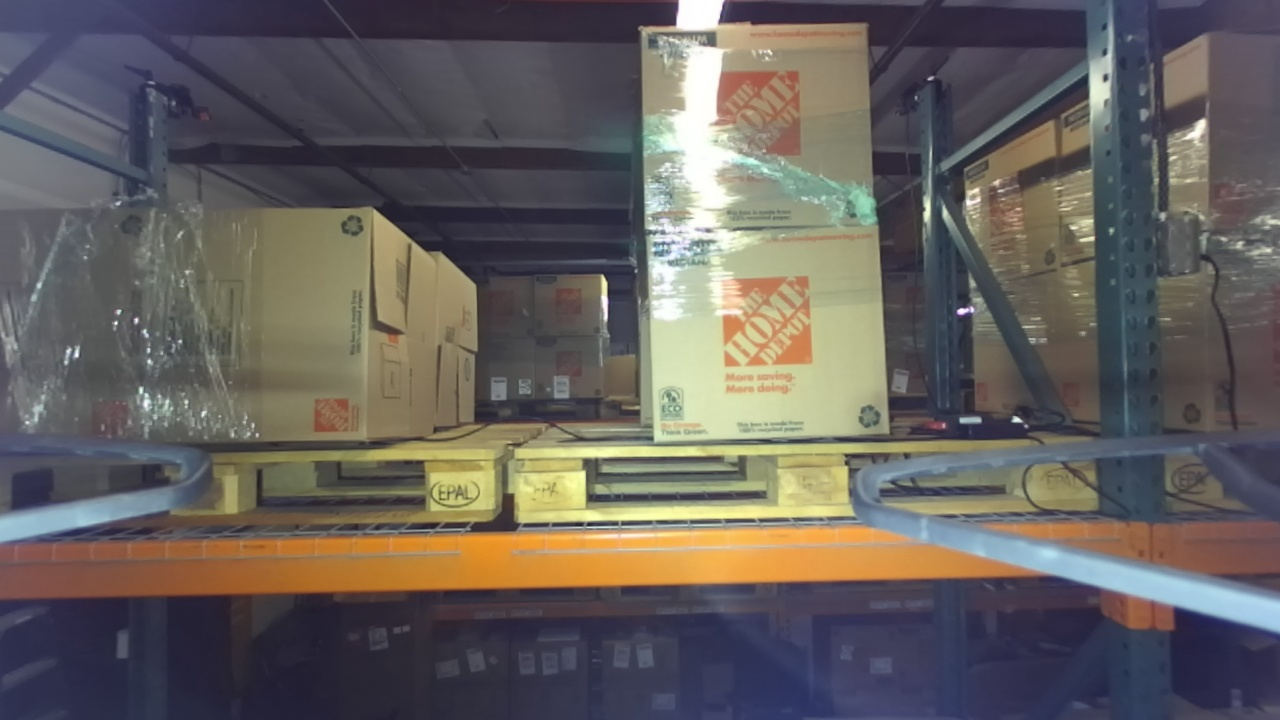box: (147, 193, 438, 450), (630, 211, 925, 450), (623, 11, 900, 230)
